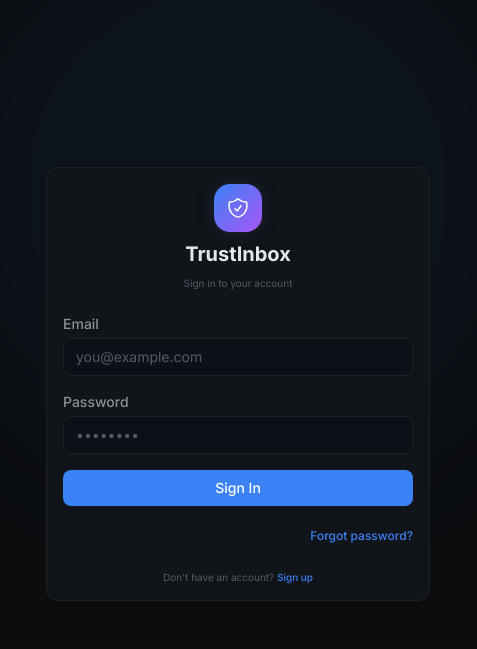
Test case: LoginPage › displays error message on login failure
Type "bad@test.com" into the field labelled "Email" at x=238, y=357, box x1=63 y1=338 x2=413 y2=376
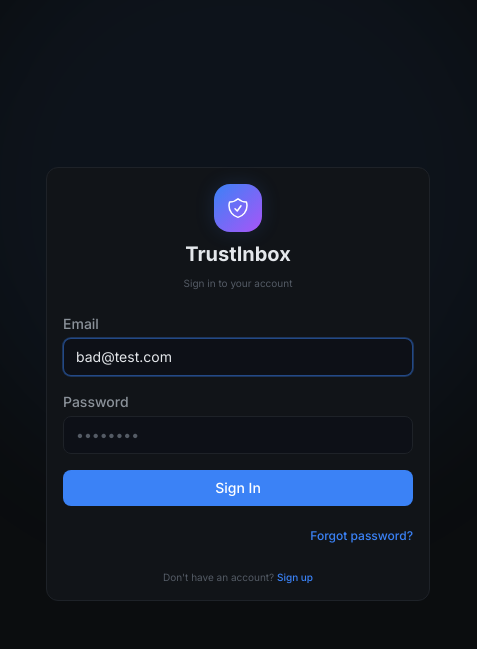
Type "wrong" into the password field labelled "Password" at x=238, y=435, box x1=63 y1=416 x2=413 y2=454
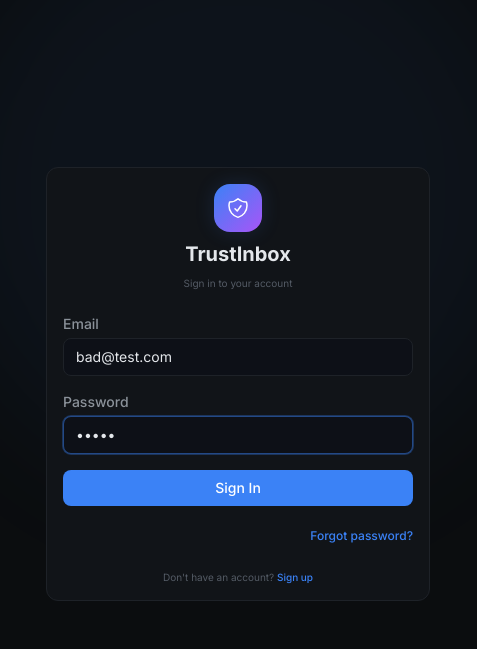
Click the button "Sign In" at x=238, y=488, box x1=63 y1=470 x2=413 y2=506
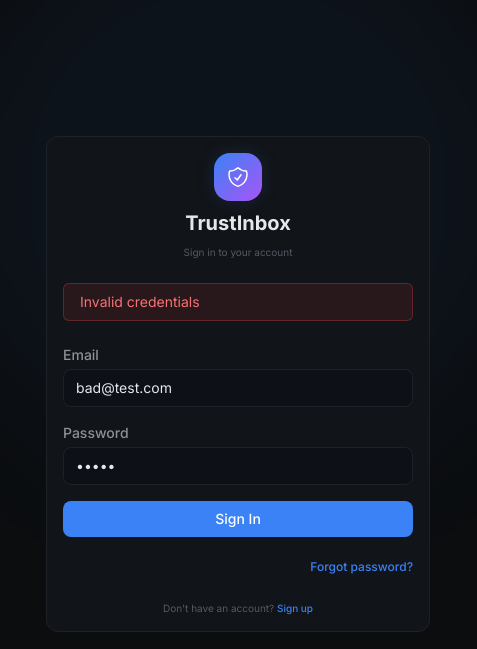
Check: the text "Invalid credentials" is shown, box x1=63 y1=283 x2=413 y2=321
